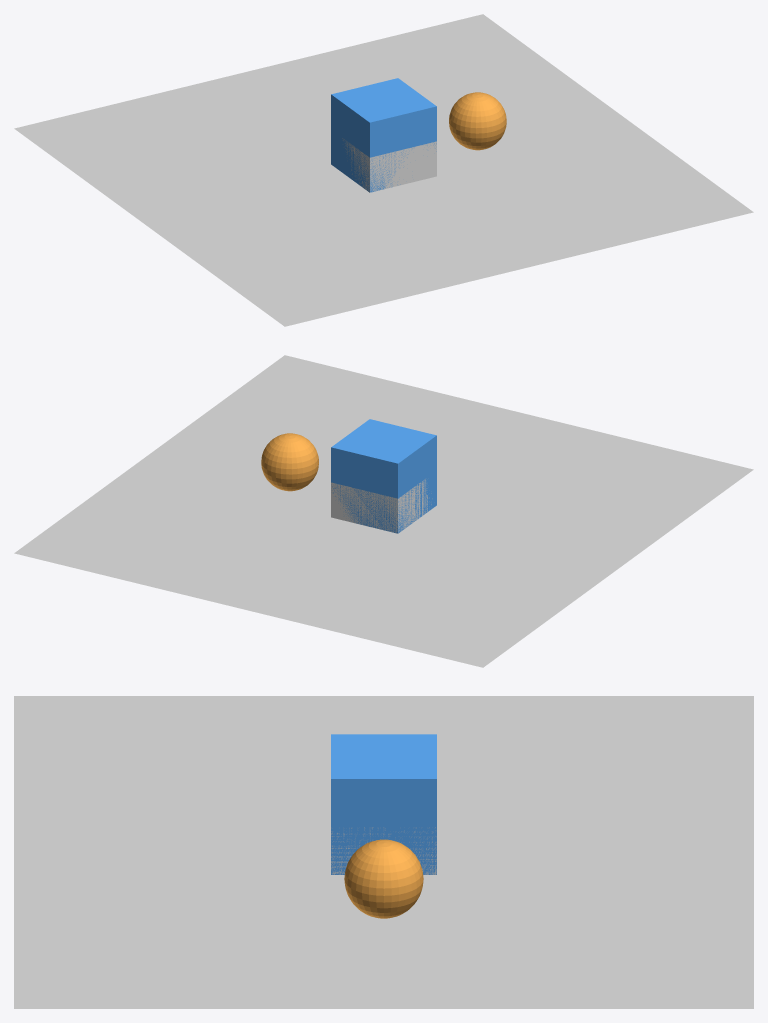
File: codex_blender_mcp_test.glb
The picture shows the model from 3 angles, top to bottom: view 1: azimuth 30°, elevation 25°; view 2: azimuth 150°, elevation 25°; view 3: azimuth 270°, elevation 25°; orthographic projection. The views are drawn at different scales.
Parts seen in each view (by area): view 1: Codex_MCP_Ground, Codex_MCP_Blue_Cube, Cube, Codex_MCP_Orange_Sphere; view 2: Codex_MCP_Ground, Codex_MCP_Blue_Cube, Cube, Codex_MCP_Orange_Sphere; view 3: Codex_MCP_Ground, Codex_MCP_Blue_Cube, Codex_MCP_Orange_Sphere, Cube.
Part boxes in pixels (x1,y1,x2,y2): Codex_MCP_Ground: (14, 14, 753, 326); Codex_MCP_Blue_Cube: (331, 78, 436, 192); Cube: (342, 138, 436, 192); Codex_MCP_Orange_Sphere: (449, 92, 506, 150); Codex_MCP_Ground: (14, 355, 753, 667); Codex_MCP_Blue_Cube: (331, 419, 436, 533); Cube: (331, 479, 432, 533); Codex_MCP_Orange_Sphere: (261, 433, 318, 491); Codex_MCP_Ground: (14, 696, 753, 1008); Codex_MCP_Blue_Cube: (331, 734, 436, 874); Codex_MCP_Orange_Sphere: (344, 839, 423, 918); Cube: (331, 827, 436, 874).
Size of the model in its own units: 14 by 3 by 14.
